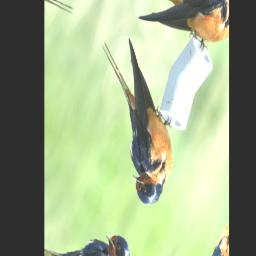Swallow: (67, 22, 198, 217)
